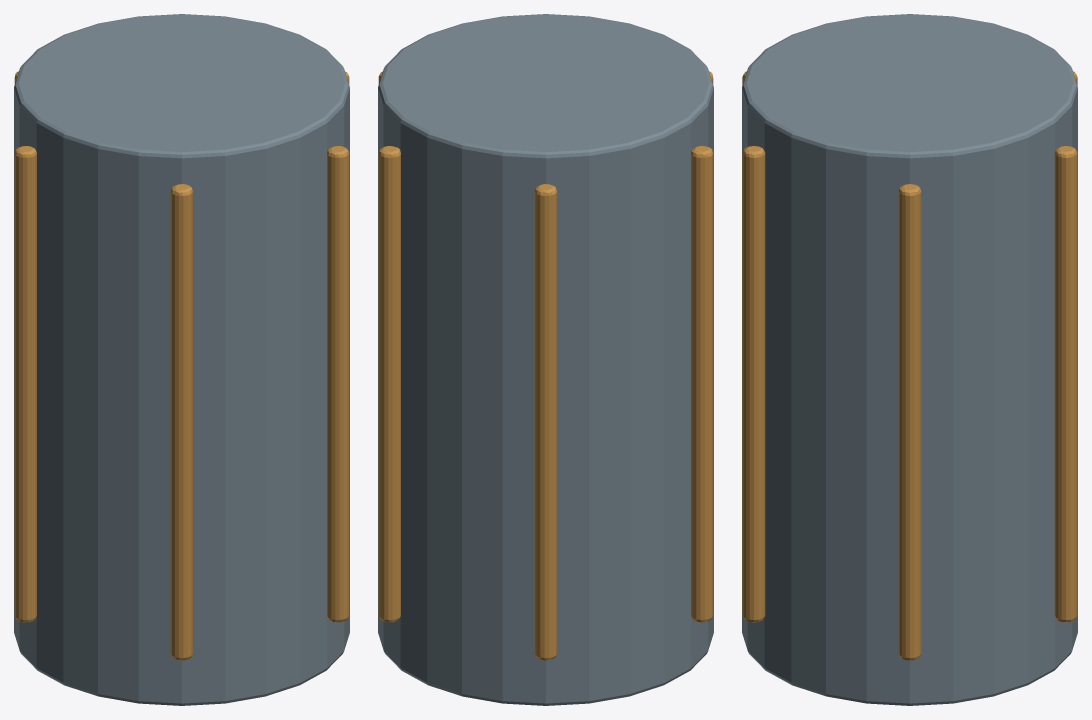
The model's file is SM_Lab_SampleCanister.fbx.
3 renders of one model, left to right at view 1: azimuth 30°, elevation 25°; view 2: azimuth 150°, elevation 25°; view 3: azimuth 270°, elevation 25°, orthographic.
Parts seen in each view (by area): view 1: SM_Lab_SampleCanister; view 2: SM_Lab_SampleCanister; view 3: SM_Lab_SampleCanister.
Boxes of the visible parts, x1=… form: SM_Lab_SampleCanister: x1=14, y1=14, x2=349, y2=705; SM_Lab_SampleCanister: x1=378, y1=14, x2=713, y2=705; SM_Lab_SampleCanister: x1=742, y1=14, x2=1077, y2=705.
Size of the model in its own units: 12.55 by 11 by 20.
